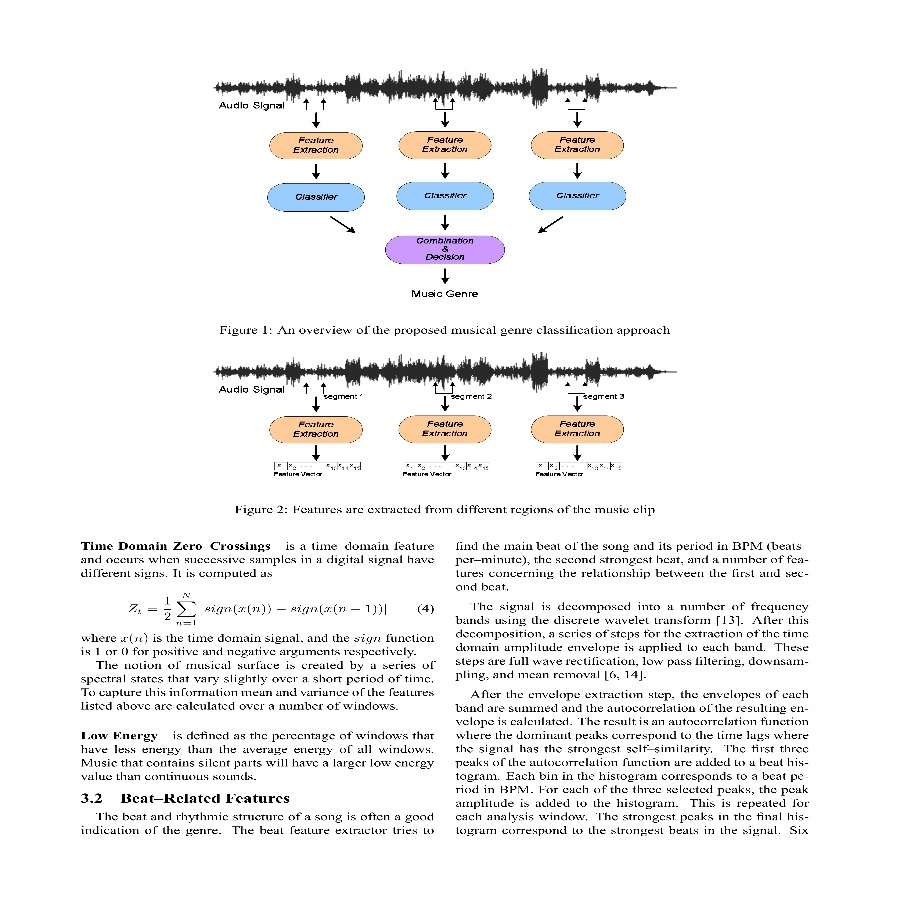eq: (125, 588, 388, 629)
